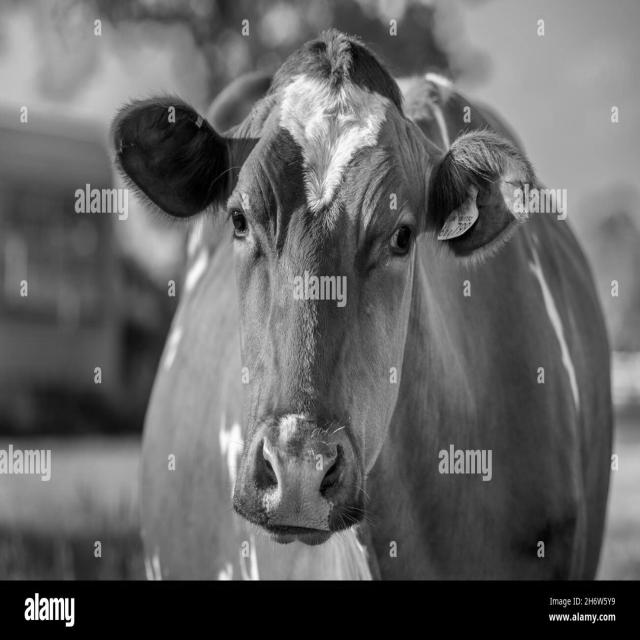Cow: (108, 28, 615, 580)
